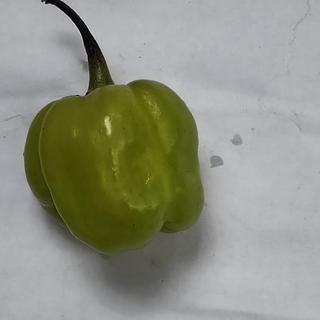Grade-B: (18, 78, 206, 251)
